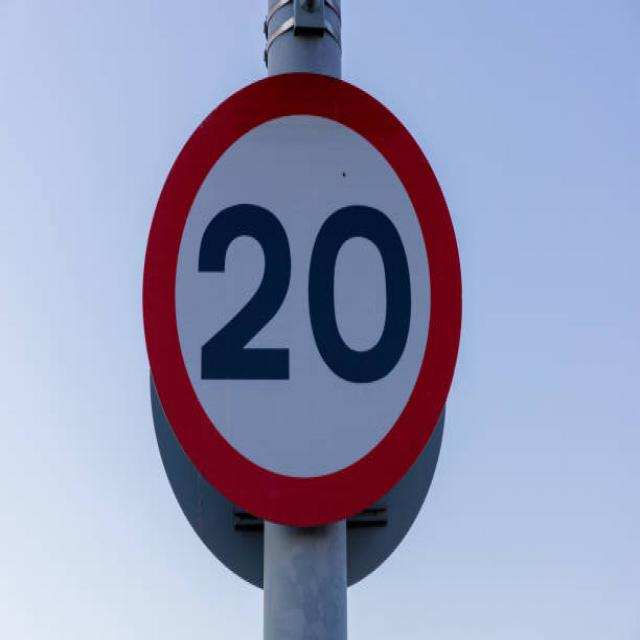speed_limit_20: (139, 63, 465, 531)
